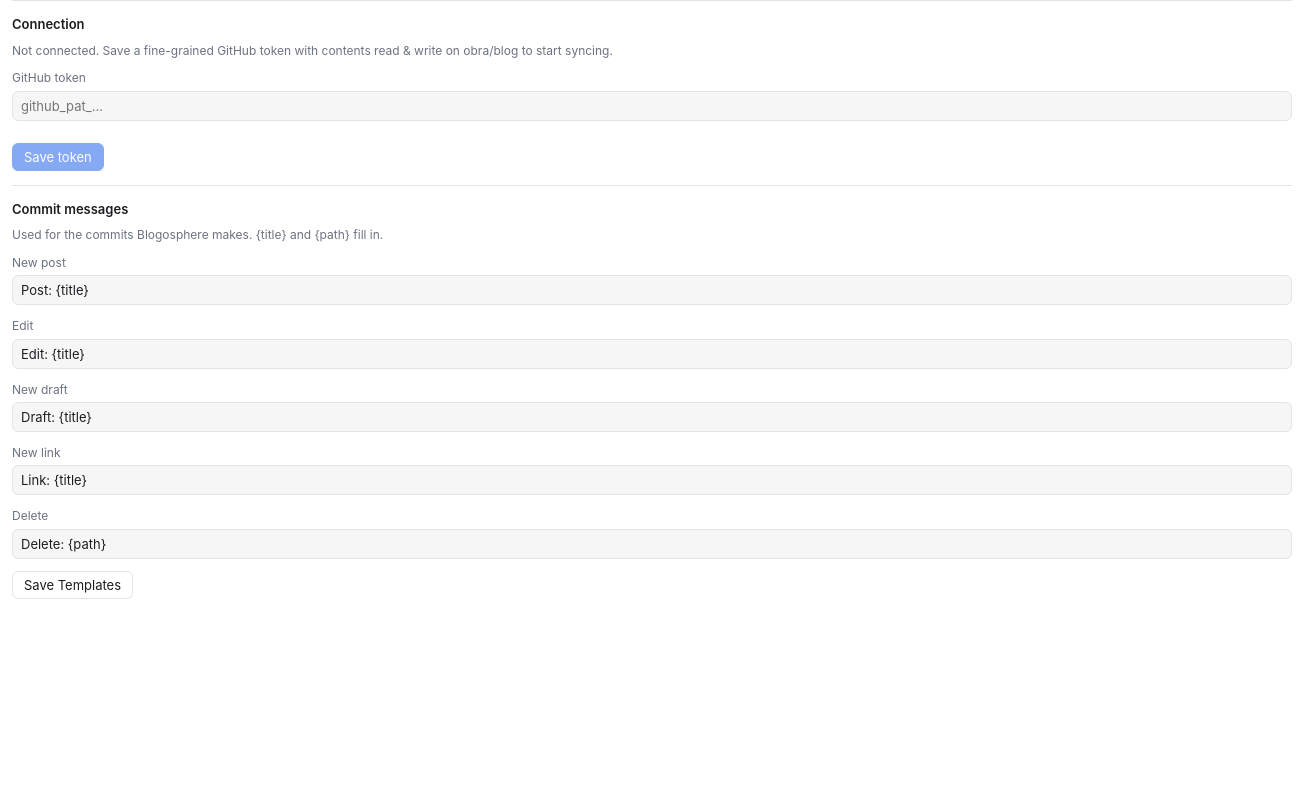
Test case: shows a rejected token inline
Type "github_pat_bad" into the password field labelled "GitHub token" at (652, 106), box [12,91,1292,121]
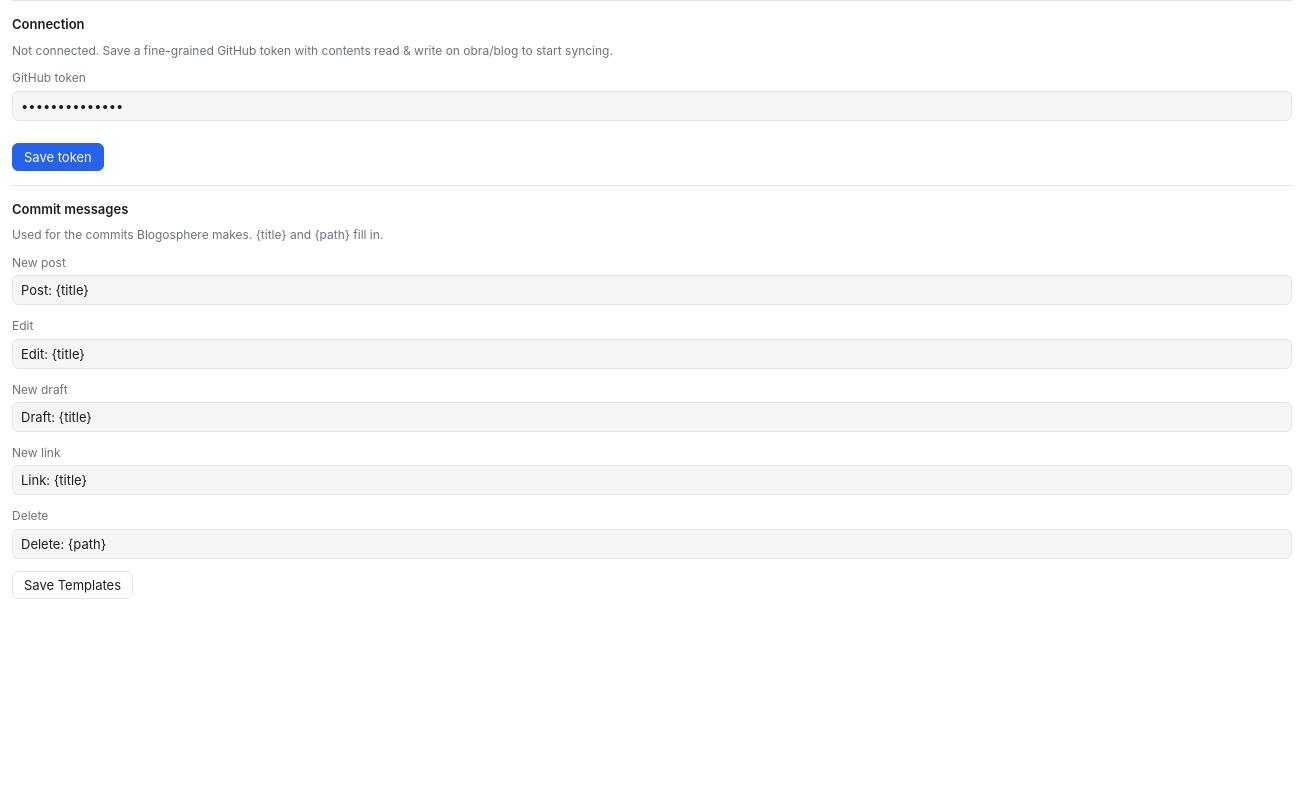
Click the button "Save token" at (58, 157), box [12,143,104,171]
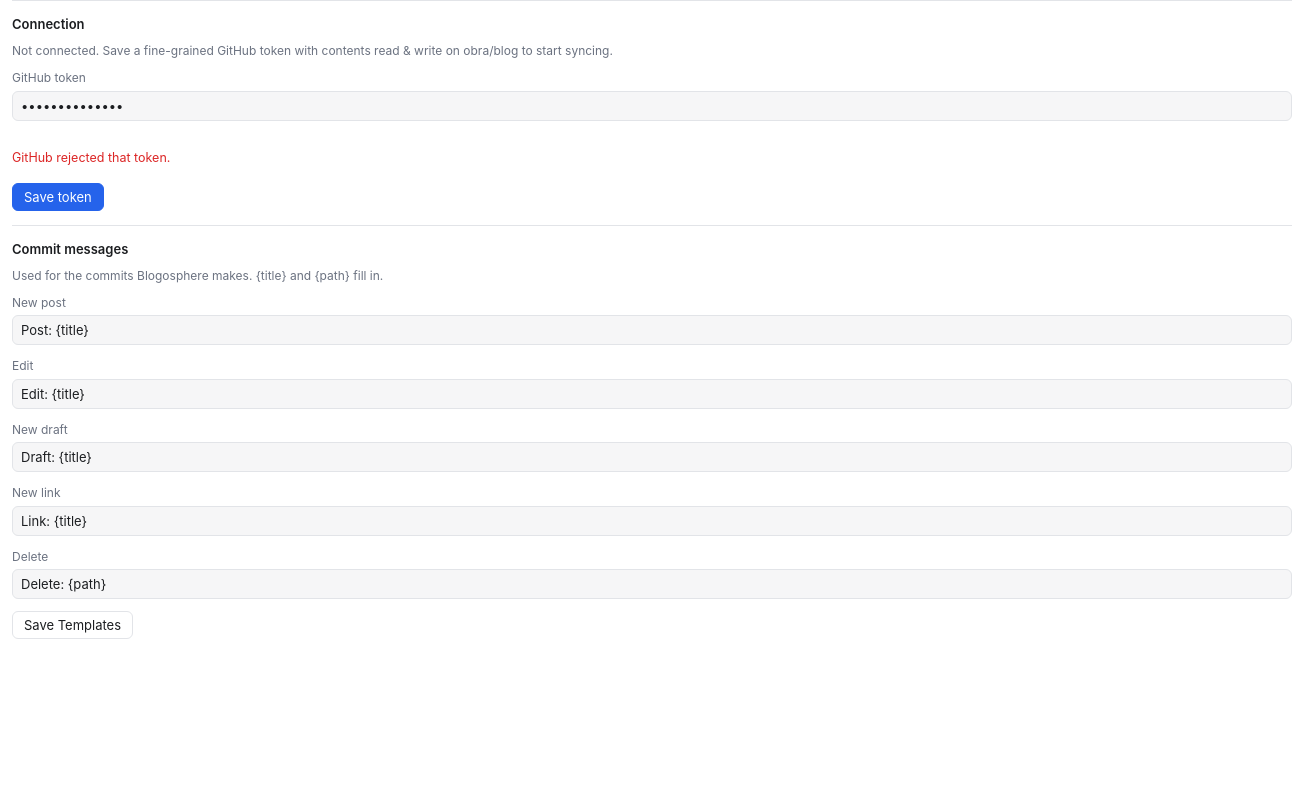
Expected: the message reads "GitHub rejected that token.", [12,150,170,165]
